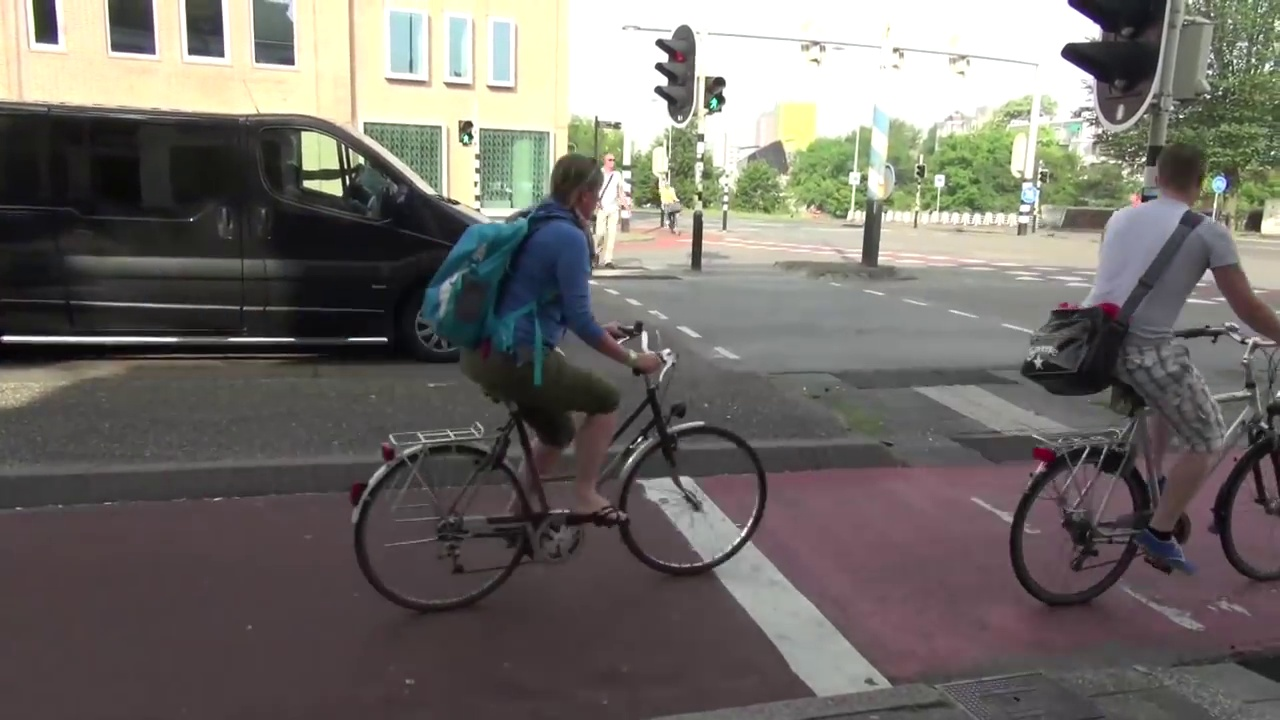cyclist_side: (332, 151, 784, 611), (1003, 115, 1274, 599)
